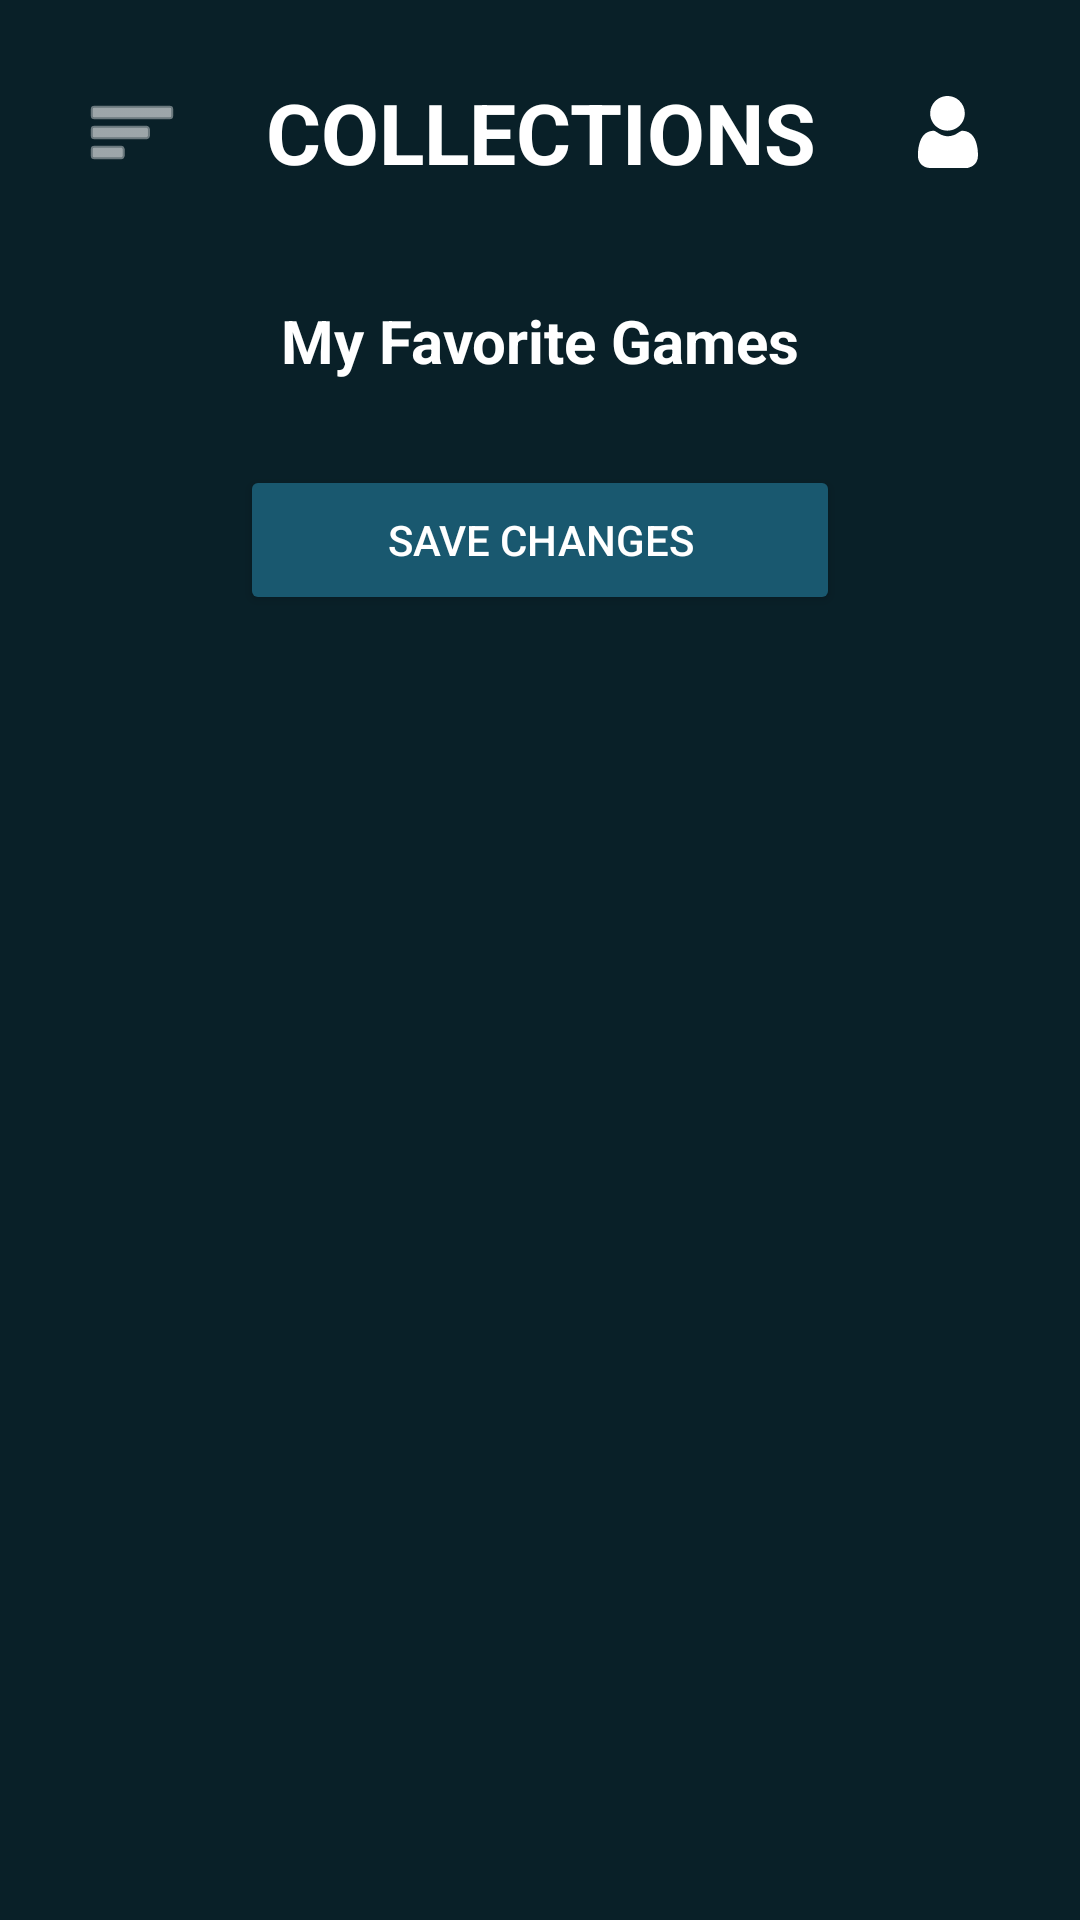

Icon bounding boxes for this 1080*1920 phone screenshot, format bbox=(x1, y1, x2, y2):
Open menu: bbox=(91, 106, 173, 159)
Open user profile: bbox=(918, 96, 978, 168)
